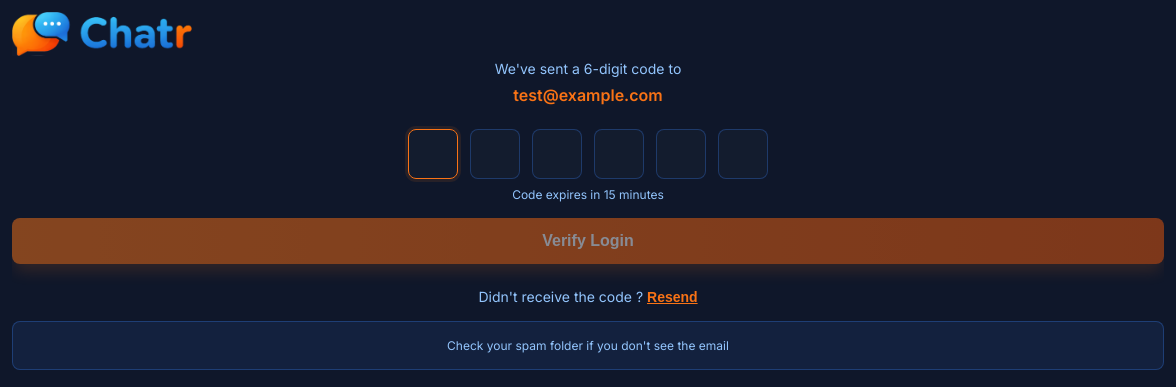
Test: LoginVerification Component › enables submit button when all digits entered
Type "1" into the 1st field.
click(433, 154); type("1")  # box x1=408 y1=129 x2=458 y2=179
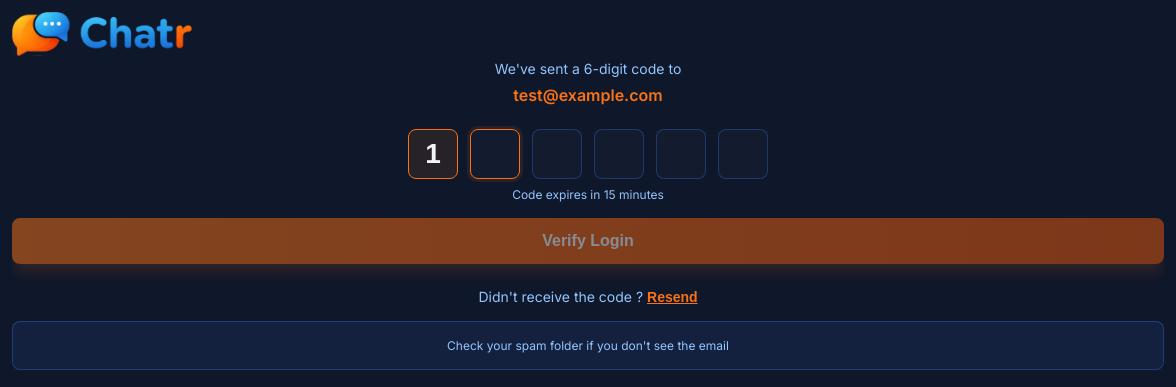
Type "2" into the 2nd field.
click(495, 154); type("2")  # box x1=470 y1=129 x2=520 y2=179
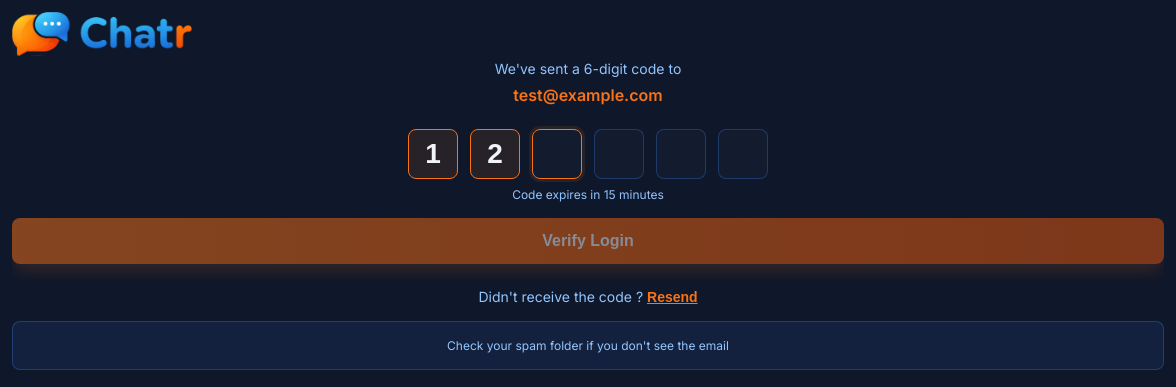
Type "3" into the 3rd field.
click(557, 154); type("3")  # box x1=532 y1=129 x2=582 y2=179
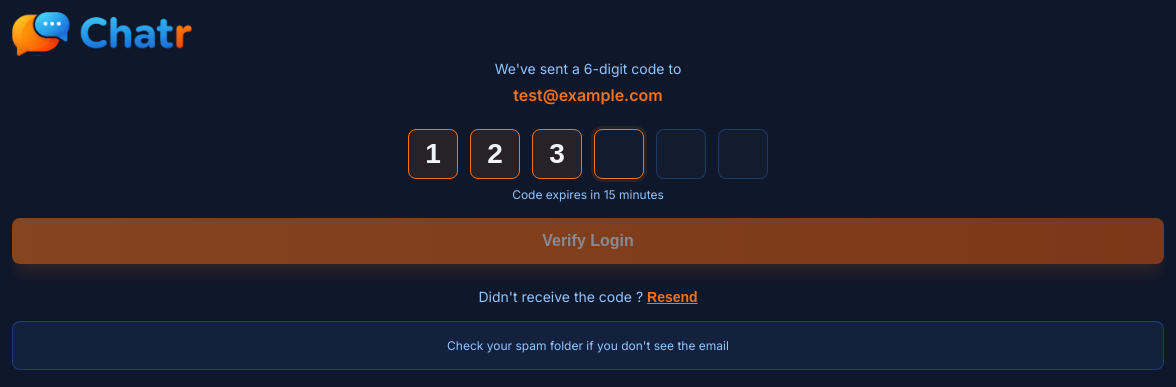
Type "4" into the 4th field.
click(619, 154); type("4")  # box x1=594 y1=129 x2=644 y2=179
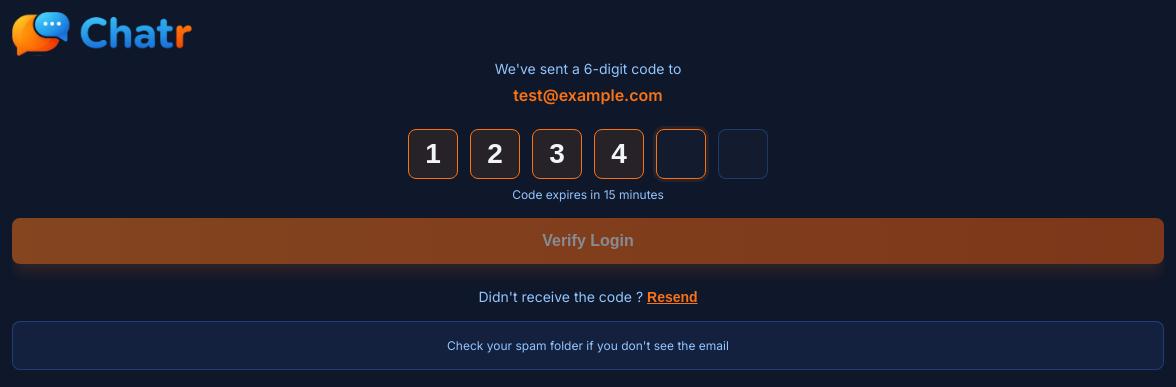
Type "5" into the 5th field.
click(681, 154); type("5")  # box x1=656 y1=129 x2=706 y2=179
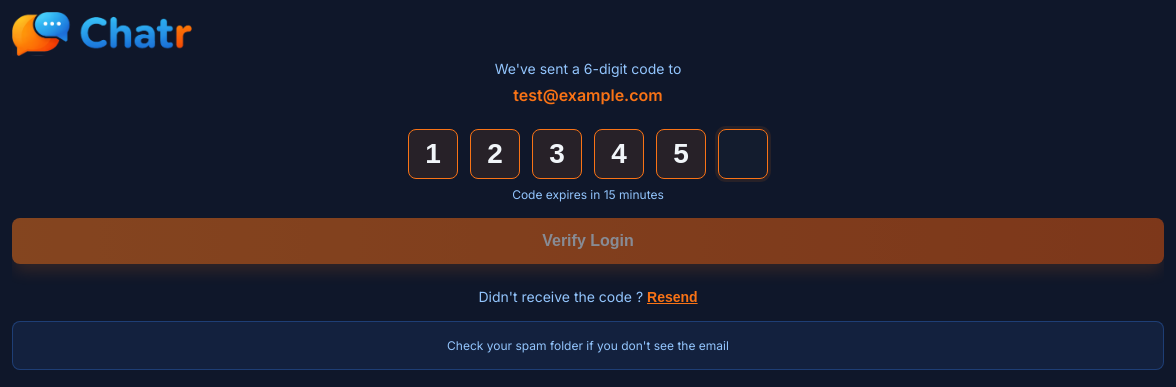
Type "6" into the 6th field.
click(743, 154); type("6")  # box x1=718 y1=129 x2=768 y2=179
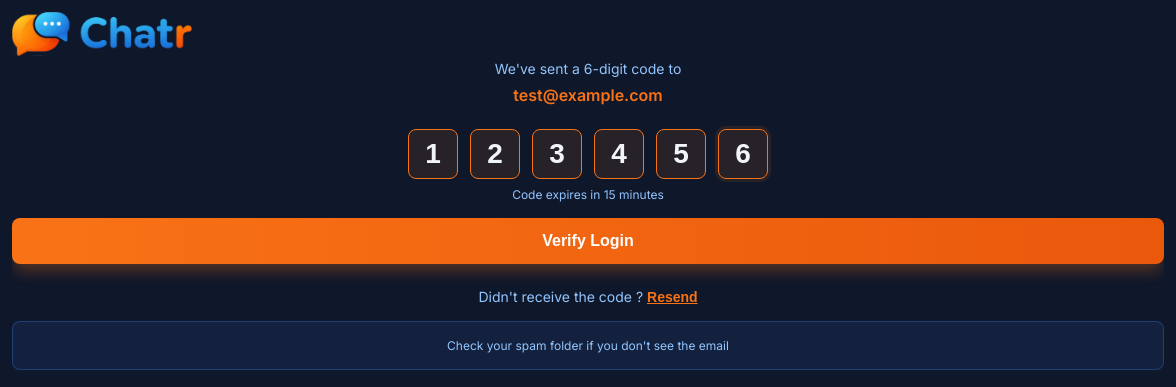
Expected: the button "Verify Login" is enabled, x1=12 y1=218 x2=1164 y2=264
